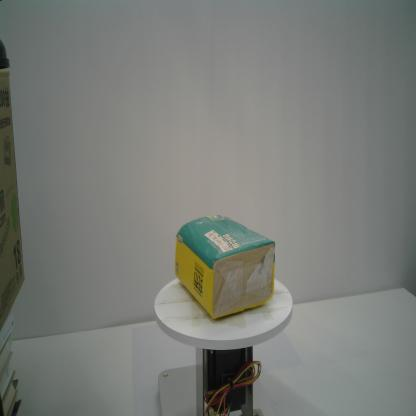Tissue: (174, 212, 278, 322)
